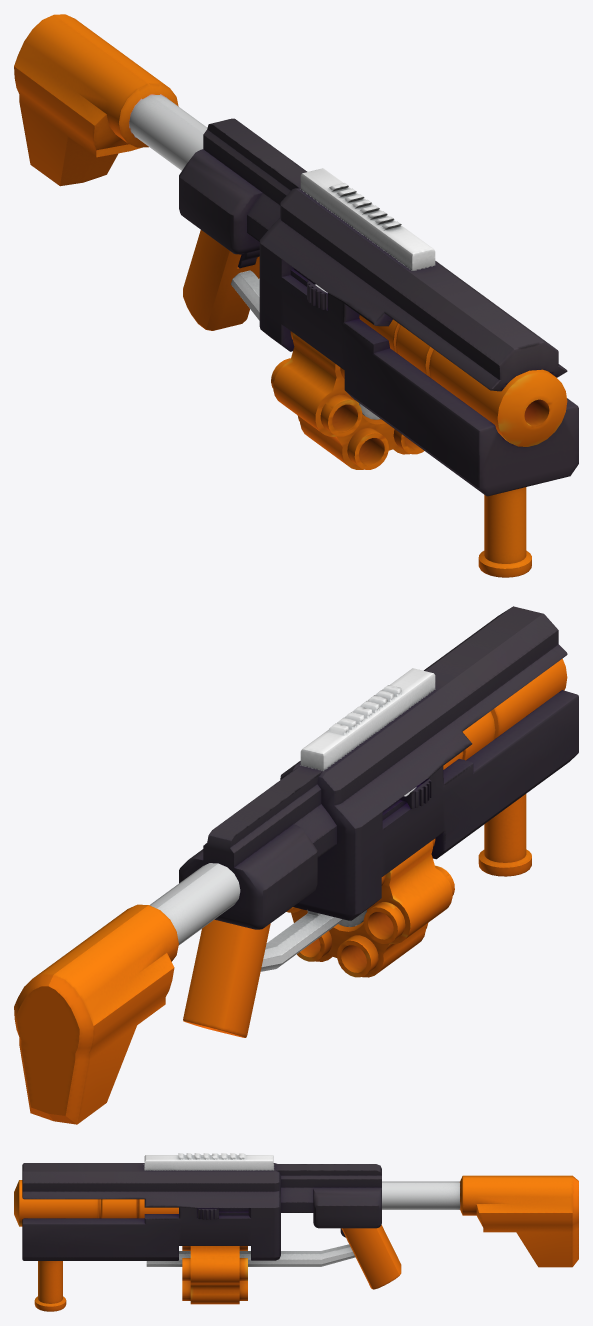
Rendered from weapon .fbx.
The picture shows the model from 3 angles, top to bottom: view 1: azimuth 30°, elevation 25°; view 2: azimuth 150°, elevation 25°; view 3: azimuth 270°, elevation 25°; orthographic projection. The views are drawn at different scales.
Parts seen in each view (by area): view 1: weapon, weapon .001, weapon .002; view 2: weapon, weapon .001, weapon .002; view 3: weapon, weapon .001, weapon .002.
Boxes of the visible parts, box(x1,y1,x2,y2) form: weapon: box(14, 14, 578, 577); weapon .001: box(271, 331, 423, 469); weapon .002: box(359, 315, 567, 446); weapon: box(14, 606, 578, 1124); weapon .001: box(286, 838, 454, 977); weapon .002: box(443, 659, 567, 769); weapon: box(22, 1153, 578, 1311); weapon .001: box(182, 1246, 247, 1304); weapon .002: box(14, 1180, 178, 1226).
Size of the model in its own units: 0.3786 by 0.6878 by 2.34.
